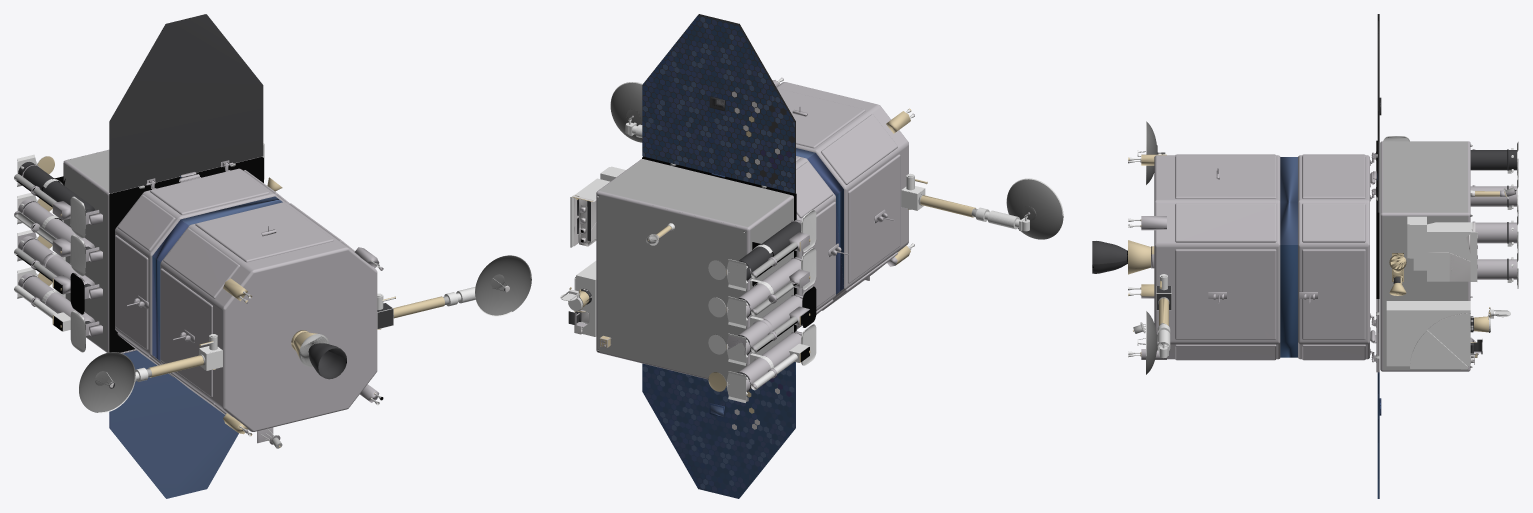
File: Solar Dynamics Observatory.fbx
3 views of the same model, side by side, from view 1: azimuth 30°, elevation 25°; view 2: azimuth 150°, elevation 25°; view 3: azimuth 270°, elevation 25° (orthographic).
Visible parts, largest first — view 1: imagetostl_mesh0, imagetostl_mesh6, imagetostl_mesh24, imagetostl_mesh4, imagetostl_mesh21, imagetostl_mesh8, imagetostl_mesh3, imagetostl_mesh1, imagetostl_mesh13, imagetostl_mesh9, imagetostl_mesh25, imagetostl_mesh7; view 2: imagetostl_mesh4, imagetostl_mesh0, imagetostl_mesh6, imagetostl_mesh26, imagetostl_mesh3, imagetostl_mesh25, imagetostl_mesh24, imagetostl_mesh23, imagetostl_mesh27, imagetostl_mesh28, imagetostl_mesh21, imagetostl_mesh29 (+7 smaller); view 3: imagetostl_mesh0, imagetostl_mesh3, imagetostl_mesh4, imagetostl_mesh6, imagetostl_mesh1, imagetostl_mesh26, imagetostl_mesh7, imagetostl_mesh24, imagetostl_mesh21, imagetostl_mesh11, imagetostl_mesh9, imagetostl_mesh8 (+1 smaller).
Part boxes in pixels (<box>): imagetostl_mesh0: <box>18,168,377,431</box>; imagetostl_mesh6: <box>18,14,505,388</box>; imagetostl_mesh24: <box>110,196,282,498</box>; imagetostl_mesh4: <box>14,150,449,447</box>; imagetostl_mesh21: <box>79,255,531,412</box>; imagetostl_mesh8: <box>16,157,383,400</box>; imagetostl_mesh3: <box>14,143,531,448</box>; imagetostl_mesh1: <box>22,149,382,443</box>; imagetostl_mesh13: <box>37,196,222,370</box>; imagetostl_mesh9: <box>149,260,444,435</box>; imagetostl_mesh25: <box>109,219,188,428</box>; imagetostl_mesh7: <box>37,156,317,447</box>; imagetostl_mesh4: <box>578,159,977,381</box>; imagetostl_mesh0: <box>632,82,1029,391</box>; imagetostl_mesh6: <box>568,14,800,391</box>; imagetostl_mesh26: <box>642,18,843,498</box>; imagetostl_mesh3: <box>560,78,1063,402</box>; imagetostl_mesh25: <box>642,19,843,492</box>; imagetostl_mesh24: <box>642,17,815,489</box>; imagetostl_mesh23: <box>642,15,794,497</box>; imagetostl_mesh27: <box>645,21,794,498</box>; imagetostl_mesh28: <box>645,22,788,494</box>; imagetostl_mesh21: <box>610,82,1063,239</box>; imagetostl_mesh29: <box>642,16,794,493</box>; imagetostl_mesh0: <box>1154,149,1516,360</box>; imagetostl_mesh3: <box>1128,121,1518,369</box>; imagetostl_mesh4: <box>1133,141,1515,369</box>; imagetostl_mesh6: <box>1092,14,1518,354</box>; imagetostl_mesh1: <box>1128,141,1470,371</box>; imagetostl_mesh26: <box>1280,245,1379,498</box>; imagetostl_mesh7: <box>1128,191,1499,357</box>; imagetostl_mesh24: <box>1280,157,1297,244</box>; imagetostl_mesh21: <box>1138,122,1165,374</box>; imagetostl_mesh11: <box>1137,188,1504,364</box>; imagetostl_mesh9: <box>1128,154,1506,356</box>; imagetostl_mesh8: <box>1092,140,1472,367</box>.
Size of the model in its own units: 3702 by 3703 by 3075.
